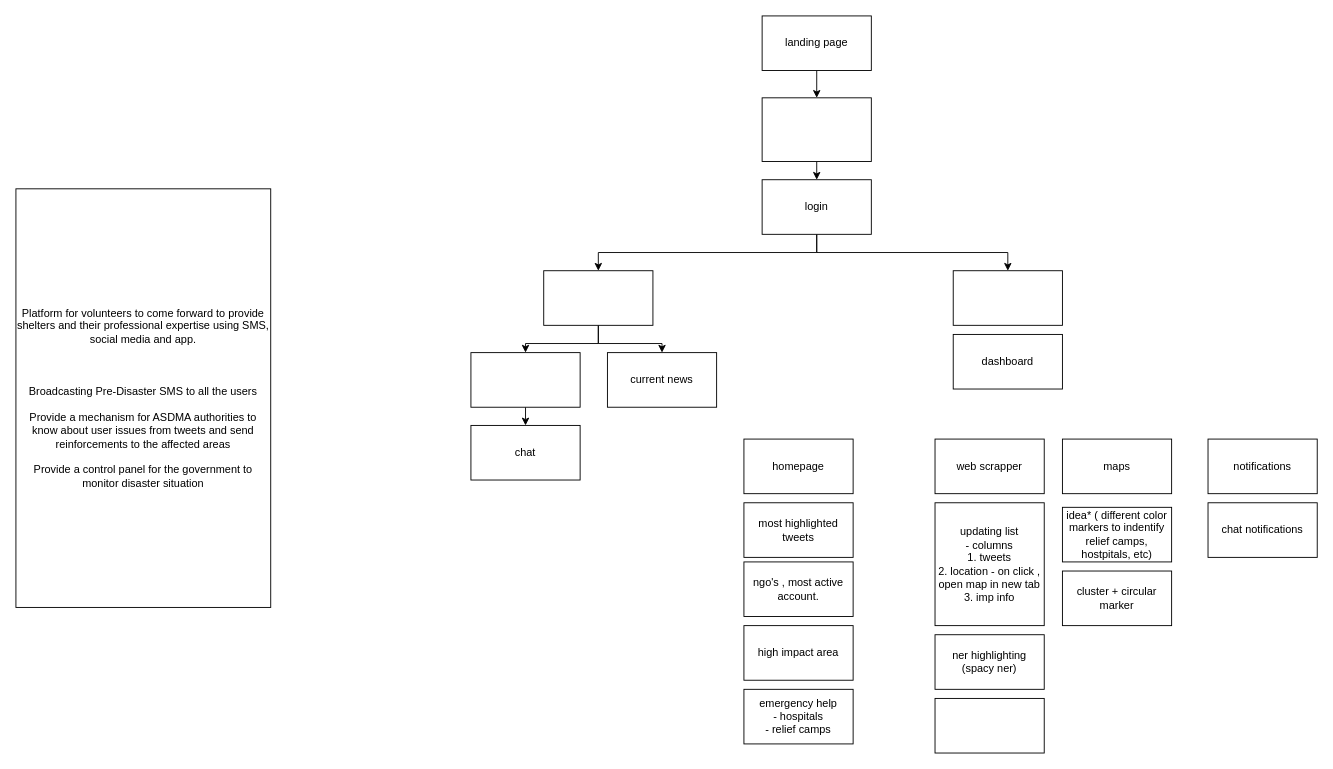
Image size: 1333x769. Some labels were removed from this diagram. Each missing label, with the box of its shape:
admin: (952, 270, 1062, 325)
help and support: (470, 352, 580, 407)
register: (761, 97, 871, 162)
user: (543, 270, 653, 325)
